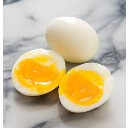begg: (68, 62, 111, 113), (14, 50, 64, 92)
